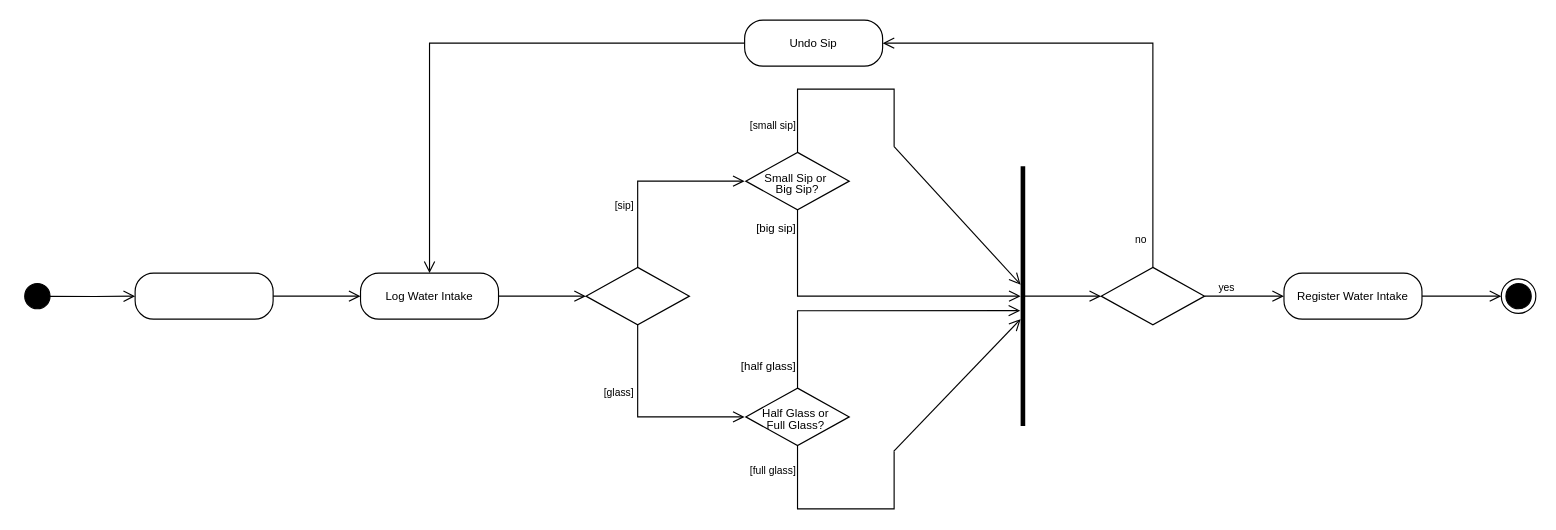
Image size: 1556x530. Some labels were removed from this diagram. The shapes that lost their labels are listed below. From the top down, each one's box as (x1, y1, x2, y2) in pixels, then its label:
(134, 272, 273, 319): Home Screen
(585, 266, 689, 325): Sip or Glass?
(1100, 266, 1205, 325): Correct Log?
